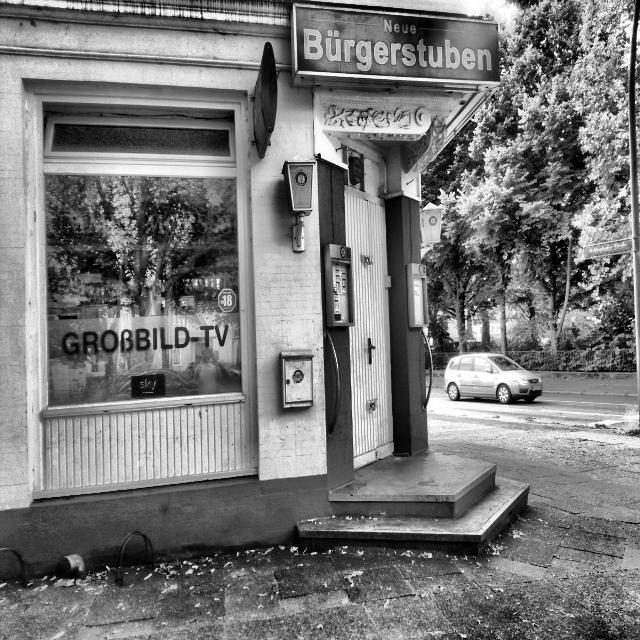escada: (291, 464, 528, 562)
